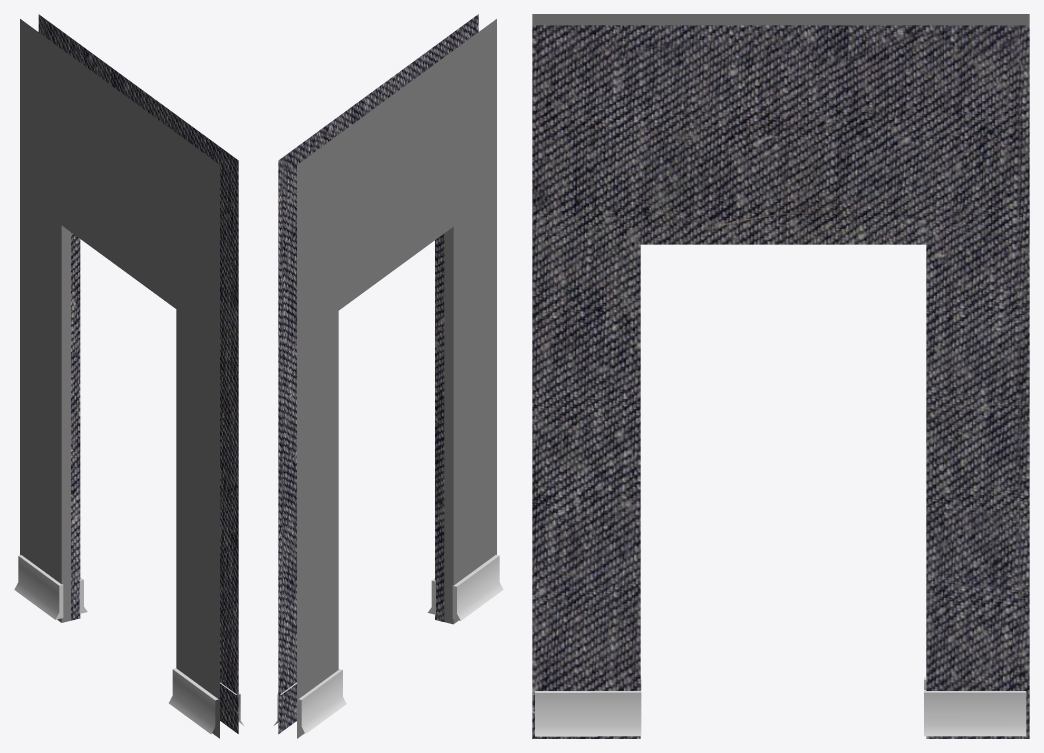
Rendered from FLAT_wall_03.FBX.
3 renders of one model, left to right at view 1: azimuth 30°, elevation 25°; view 2: azimuth 150°, elevation 25°; view 3: azimuth 270°, elevation 25°, orthographic. The views are drawn at different scales.
Parts seen in each view (by area): view 1: FLAT_wall_03, FLAT_wall_03_plinthe; view 2: FLAT_wall_03, FLAT_wall_03_plinthe; view 3: FLAT_wall_03, FLAT_wall_03_plinthe.
Boxes of the visible parts, box(x1,y1,x2,y2) form: FLAT_wall_03: box(20, 14, 238, 738); FLAT_wall_03_plinthe: box(14, 555, 243, 734); FLAT_wall_03: box(278, 14, 496, 738); FLAT_wall_03_plinthe: box(273, 554, 503, 733); FLAT_wall_03: box(532, 14, 1029, 738); FLAT_wall_03_plinthe: box(535, 677, 1026, 736).
Bounding box in the file's own units: 25.76 × 421 × 266.
2 materials, 1 textured.
